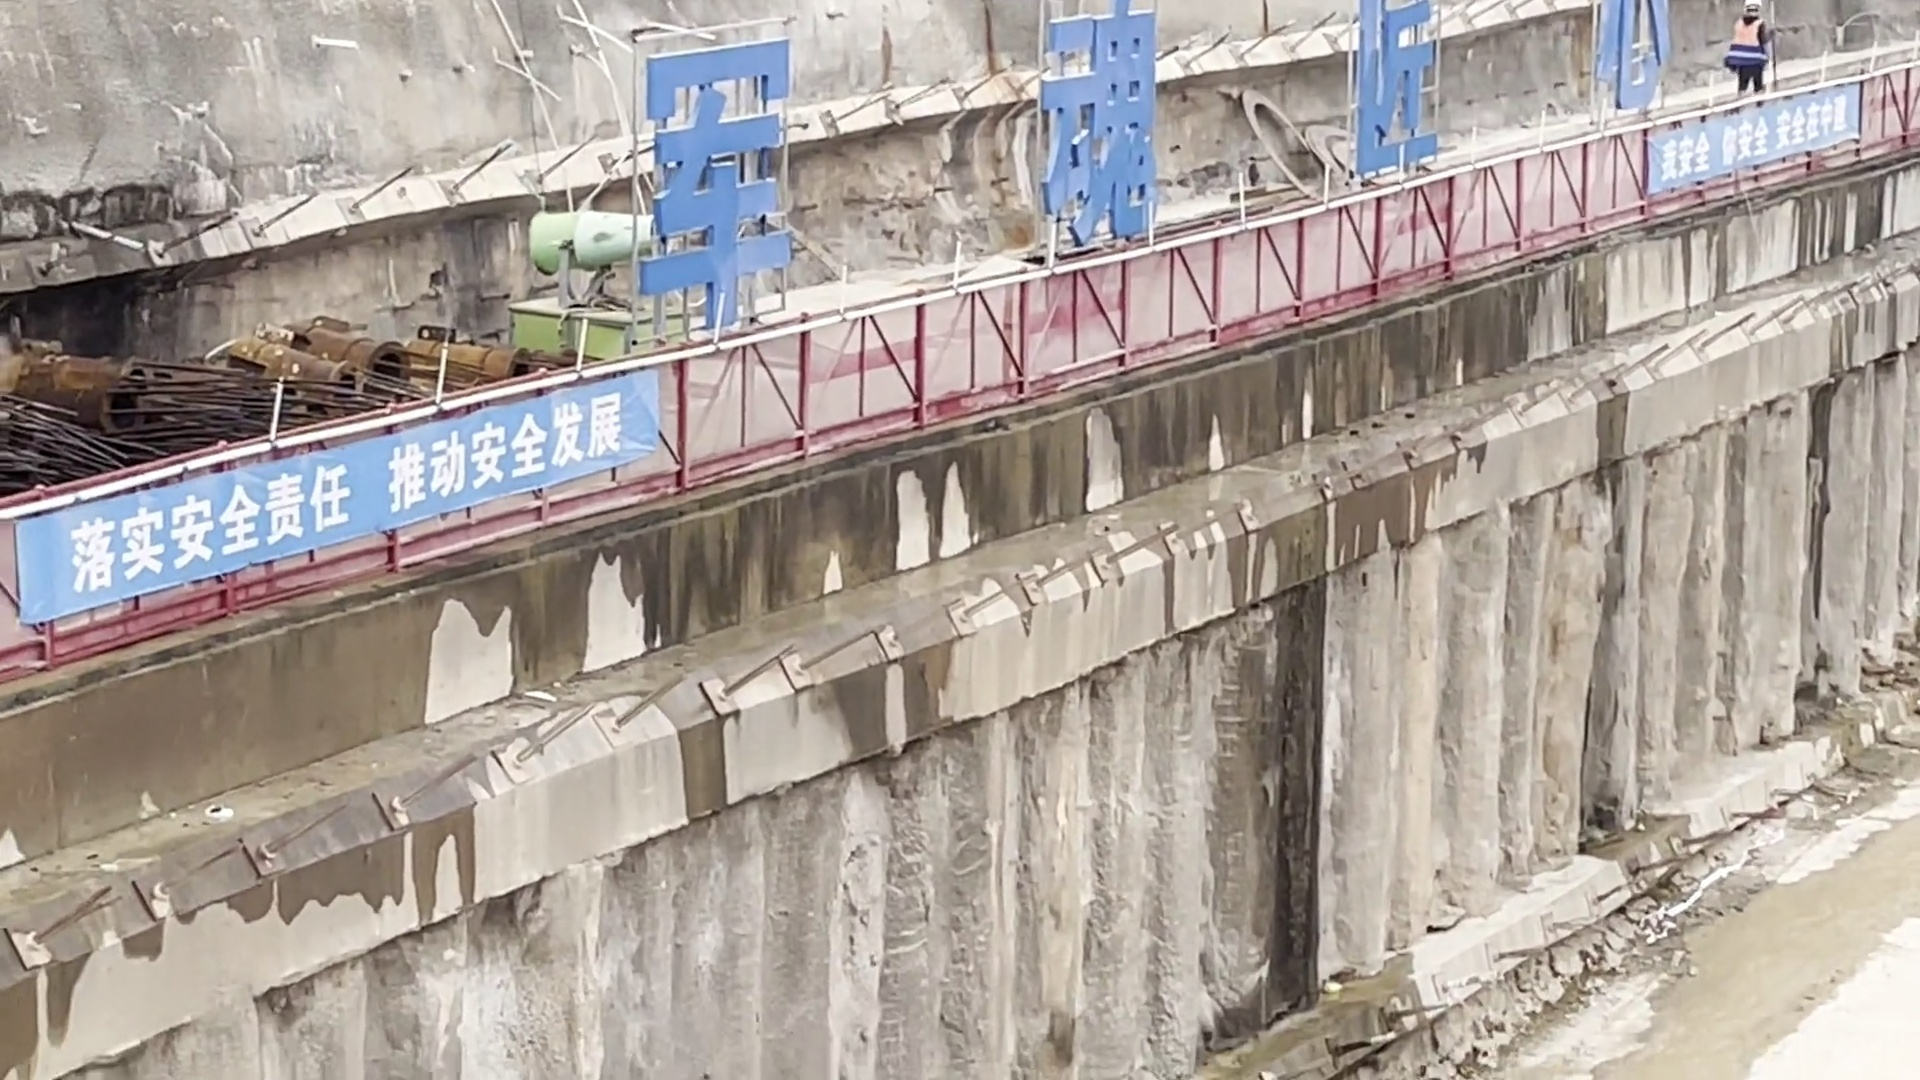fence: (4, 63, 1919, 684)
helmet: (1743, 2, 1762, 6)
person: (1730, 2, 1775, 98)
slogan: (637, 1, 1669, 334), (61, 377, 626, 612), (1661, 95, 1854, 187)
vest: (1733, 18, 1758, 49)
